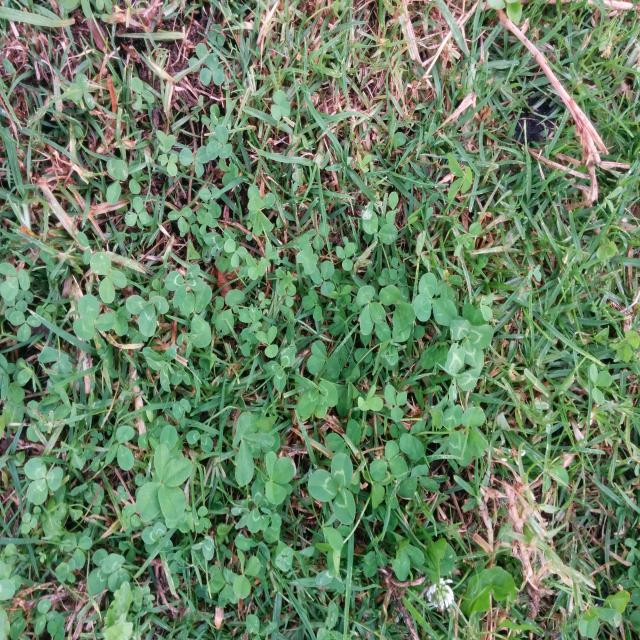Four Leaf Clover: (135, 444, 192, 522)
